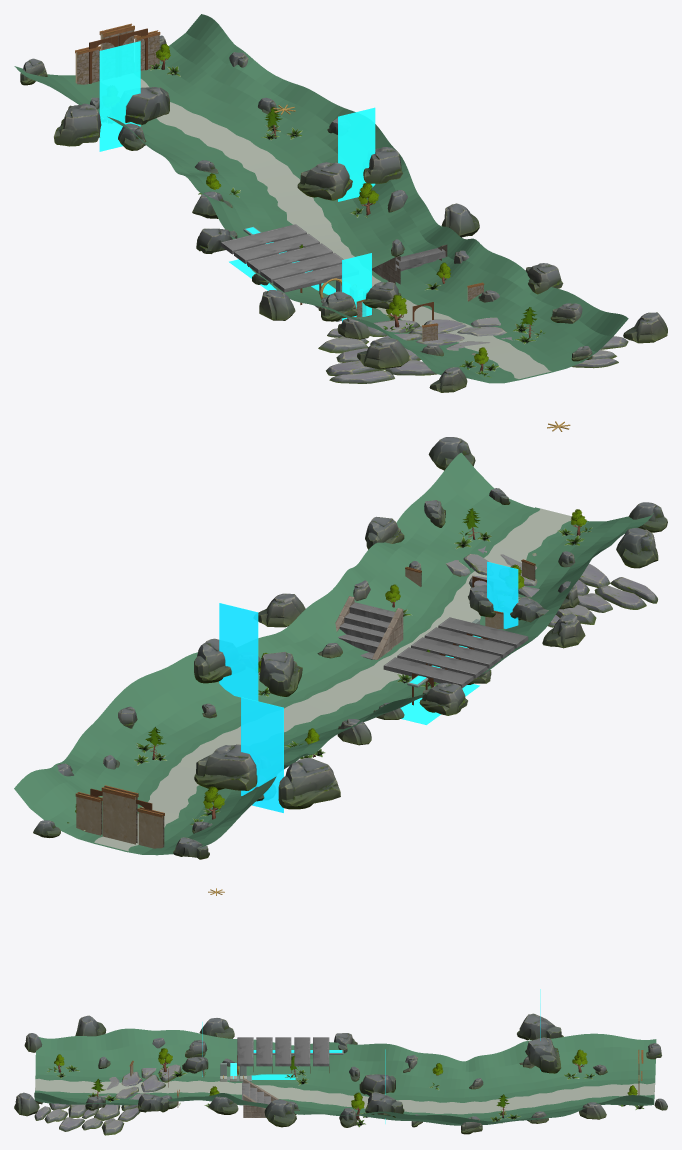
Rendered from premium-waterfall-sanctuary-v1.glb.
3 views of the same model, one above another, from view 1: azimuth 30°, elevation 25°; view 2: azimuth 150°, elevation 25°; view 3: azimuth 270°, elevation 25° (orthographic). The views are drawn at different scales.
Parts seen in each view (by area): view 1: SCULPTED_SANCTUARY_VALLEY, PLAYABLE_NATURAL_TRAIL, RockPath_Round_Wide.001, WATERFALL_3, TRAIL_MOSS_EDGE, WATERFALL_2, Rock_Medium_3.013, Rock_Medium_3.015, WATERFALL_1, Rock_Medium_3.016, Rock_Medium_1.016, Stairs_Exterior_Straight.001 (+17 smaller); view 2: SCULPTED_SANCTUARY_VALLEY, PLAYABLE_NATURAL_TRAIL, RockPath_Round_Wide.001, TRAIL_MOSS_EDGE, WATERFALL_3, WATERFALL_2, Stairs_Exterior_Straight.001, Rock_Medium_3.015, Rock_Medium_3.016, Wall_UnevenBrick_Straight.005, WATERFALL_1, Rock_Medium_3.013 (+17 smaller); view 3: SCULPTED_SANCTUARY_VALLEY, PLAYABLE_NATURAL_TRAIL, RockPath_Round_Wide.001, TRAIL_MOSS_EDGE, Rock_Medium_3.016, Rock_Medium_3.015, Stairs_Exterior_Straight.001, Rock_Medium_1.018, Rock_Medium_3.013, Rock_Medium_3.014, Rock_Medium_1.017, Prop_ExteriorBorder_Straight1.001 (+9 smaller).
Part boxes in pixels (bbox=[...]): SCULPTED_SANCTUARY_VALLEY: bbox=[14, 14, 628, 383]; PLAYABLE_NATURAL_TRAIL: bbox=[140, 79, 551, 378]; RockPath_Round_Wide.001: bbox=[318, 317, 628, 383]; WATERFALL_3: bbox=[99, 41, 140, 151]; TRAIL_MOSS_EDGE: bbox=[93, 75, 556, 380]; WATERFALL_2: bbox=[338, 107, 375, 201]; Rock_Medium_3.013: bbox=[297, 162, 352, 200]; Rock_Medium_3.015: bbox=[54, 103, 101, 146]; WATERFALL_1: bbox=[342, 253, 371, 321]; Rock_Medium_3.016: bbox=[125, 87, 169, 124]; Rock_Medium_1.016: bbox=[357, 337, 409, 369]; Stairs_Exterior_Straight.001: bbox=[372, 244, 447, 284]; SCULPTED_SANCTUARY_VALLEY: bbox=[14, 452, 653, 855]; PLAYABLE_NATURAL_TRAIL: bbox=[94, 508, 571, 851]; RockPath_Round_Wide.001: bbox=[446, 546, 657, 627]; TRAIL_MOSS_EDGE: bbox=[89, 507, 571, 853]; WATERFALL_3: bbox=[241, 697, 283, 812]; WATERFALL_2: bbox=[219, 603, 258, 700]; Stairs_Exterior_Straight.001: bbox=[335, 596, 403, 659]; Rock_Medium_3.015: bbox=[278, 757, 340, 809]; Rock_Medium_3.016: bbox=[194, 744, 257, 790]; Wall_UnevenBrick_Straight.005: bbox=[101, 785, 138, 844]; WATERFALL_1: bbox=[487, 561, 518, 628]; Rock_Medium_3.013: bbox=[259, 651, 302, 696]; SCULPTED_SANCTUARY_VALLEY: bbox=[34, 1028, 656, 1125]; PLAYABLE_NATURAL_TRAIL: bbox=[35, 1078, 655, 1114]; RockPath_Round_Wide.001: bbox=[34, 1064, 181, 1135]; TRAIL_MOSS_EDGE: bbox=[35, 1076, 655, 1116]; Rock_Medium_3.016: bbox=[525, 1037, 561, 1073]; Rock_Medium_3.015: bbox=[517, 1013, 563, 1040]; Stairs_Exterior_Straight.001: bbox=[242, 1077, 278, 1117]; Rock_Medium_1.018: bbox=[264, 1099, 296, 1127]; Rock_Medium_3.013: bbox=[359, 1074, 395, 1095]; Rock_Medium_3.014: bbox=[365, 1092, 404, 1117]; Rock_Medium_1.017: bbox=[199, 1018, 234, 1038]; Prop_ExteriorBorder_Straight1.001: bbox=[237, 1037, 253, 1066].
Bounding box in the file's own units: 74.92 × 60.28 × 211.
22 materials, 16 textured.
